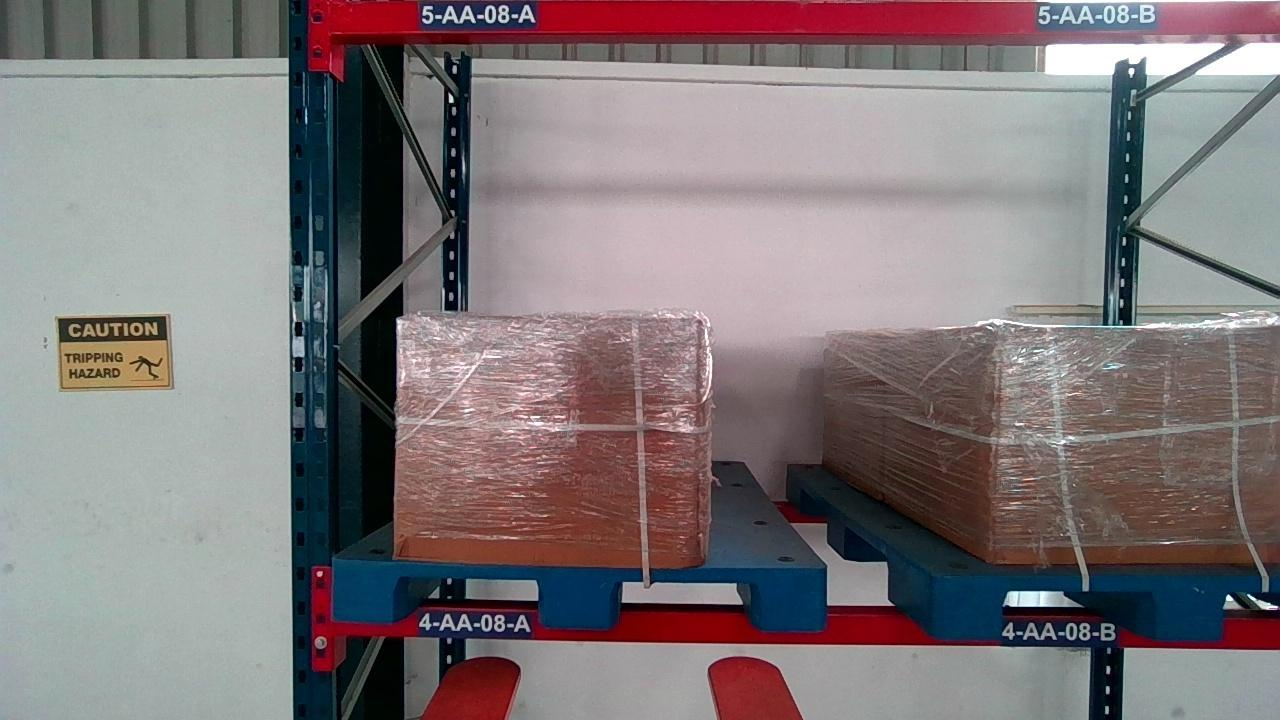h_rack: (336, 603, 1280, 651), (330, 0, 1278, 31)
small_pallet: (330, 558, 821, 630), (942, 573, 1280, 639)
